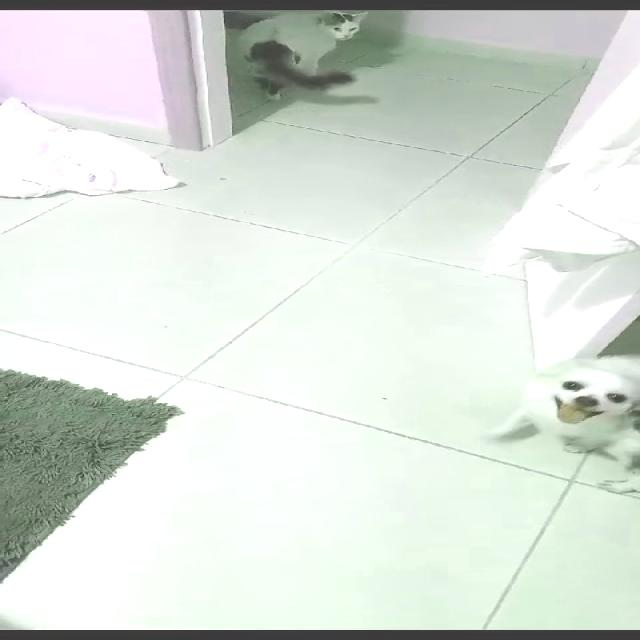Simba: (230, 10, 406, 114)
Theo: (504, 331, 638, 517)
